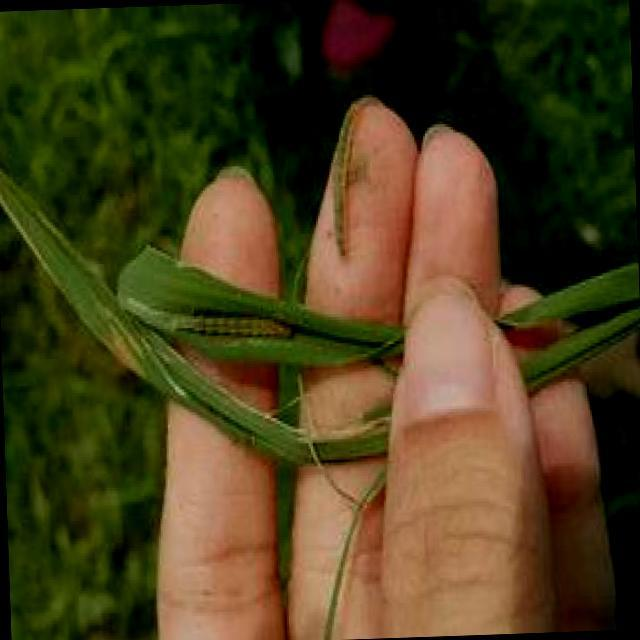leaf folder: (328, 98, 374, 254)
